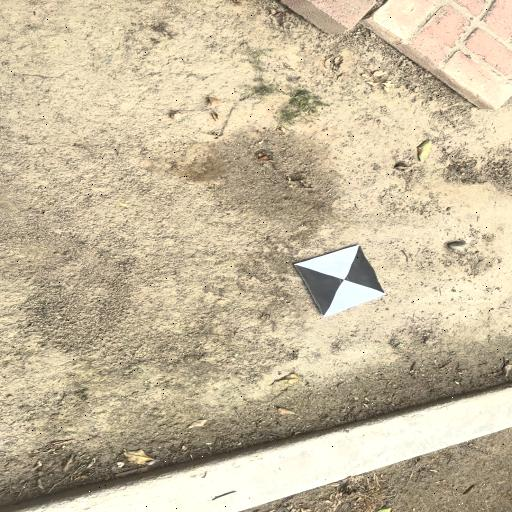target: (296, 247, 387, 317)
